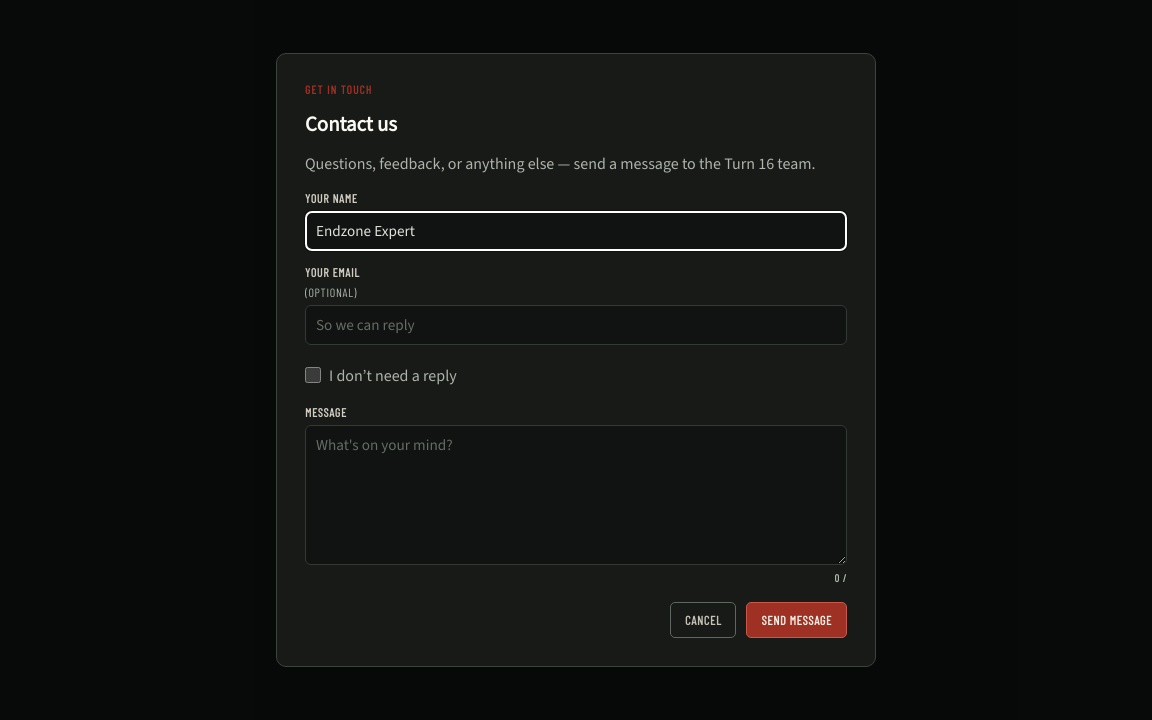
Test: ContactModal › prefills the name from the identity and requires an email and message
The width and height of the screenshot is (1152, 720).
Check: the field labelled "Your name" holds "Endzone Expert", box top-left (305, 211), bottom-right (847, 251)
Step 1. Click the button "Send message" → (797, 620), box top-left (746, 602), bottom-right (847, 638)
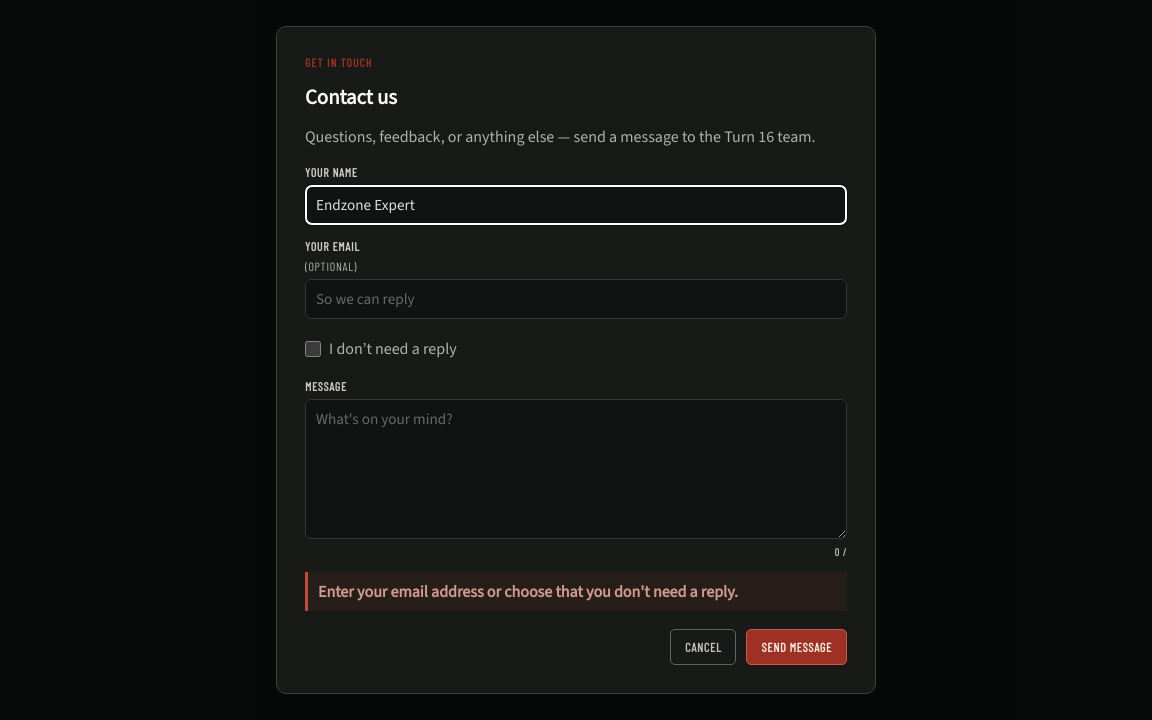
Check: the message shows "email address", box top-left (318, 581), bottom-right (738, 602)
